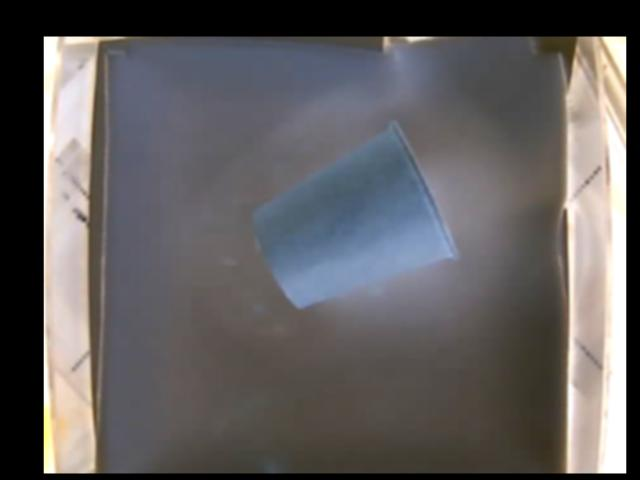Cup: (250, 122, 459, 305)
